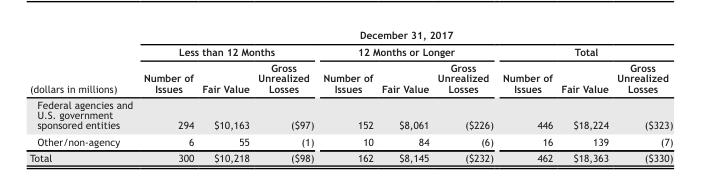table: (28, 28, 672, 163)
table column: (28, 28, 137, 163), (432, 28, 497, 163), (253, 28, 317, 163), (137, 28, 197, 163), (612, 28, 672, 163), (317, 28, 376, 163), (497, 28, 556, 163), (197, 28, 253, 163), (376, 28, 432, 163), (556, 28, 612, 163)
table column header: (28, 28, 672, 96)
table row: (28, 59, 672, 96), (28, 96, 672, 132), (28, 132, 672, 149), (28, 43, 672, 59), (28, 28, 672, 43), (28, 149, 672, 163)
table spanning cell: (137, 28, 672, 43), (28, 28, 137, 96), (137, 43, 317, 59), (317, 43, 497, 59), (497, 43, 672, 59)
